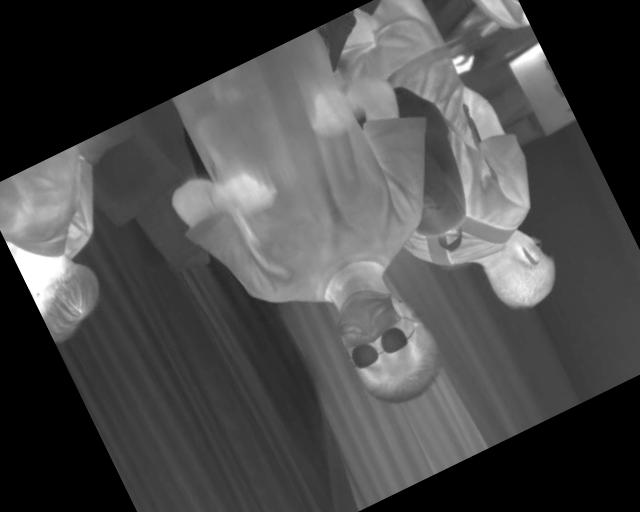face: (320, 269, 454, 419)
